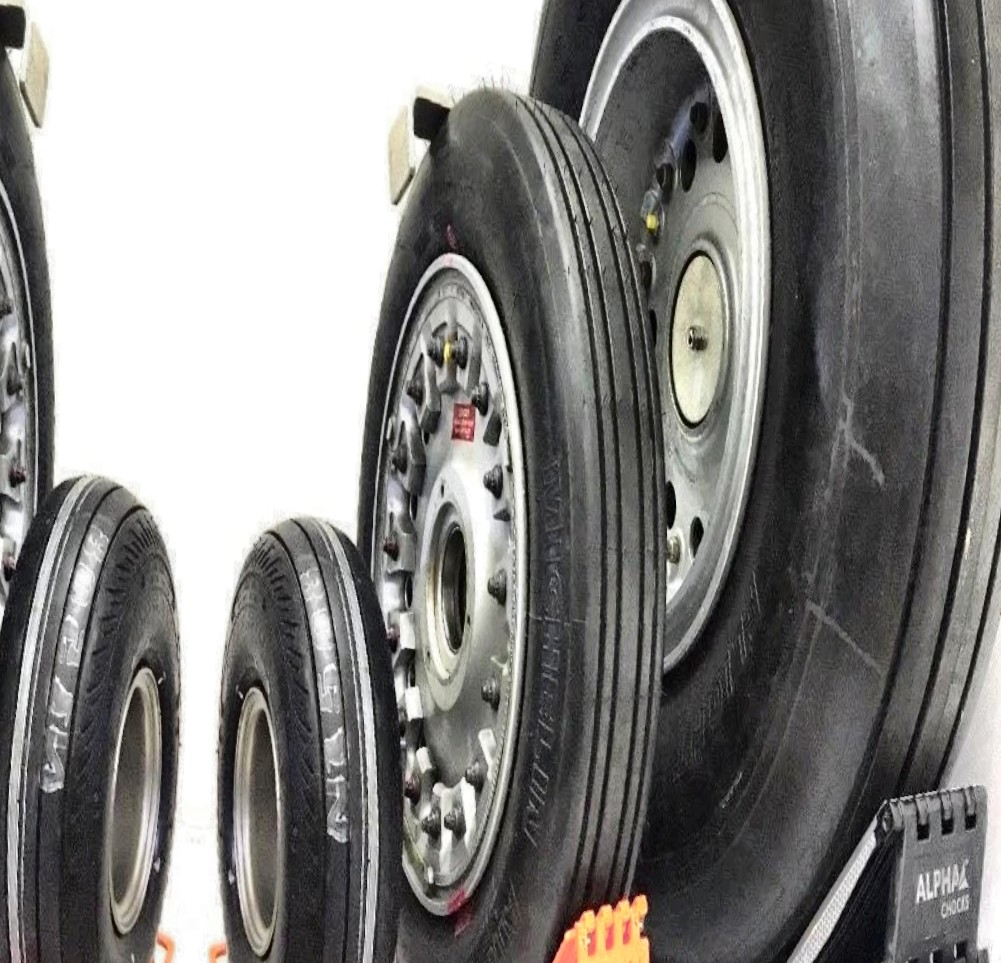chock: (730, 734, 1001, 963)
wheel: (477, 0, 1001, 963), (330, 59, 687, 963), (193, 498, 423, 963), (0, 452, 200, 963), (0, 0, 87, 963)
